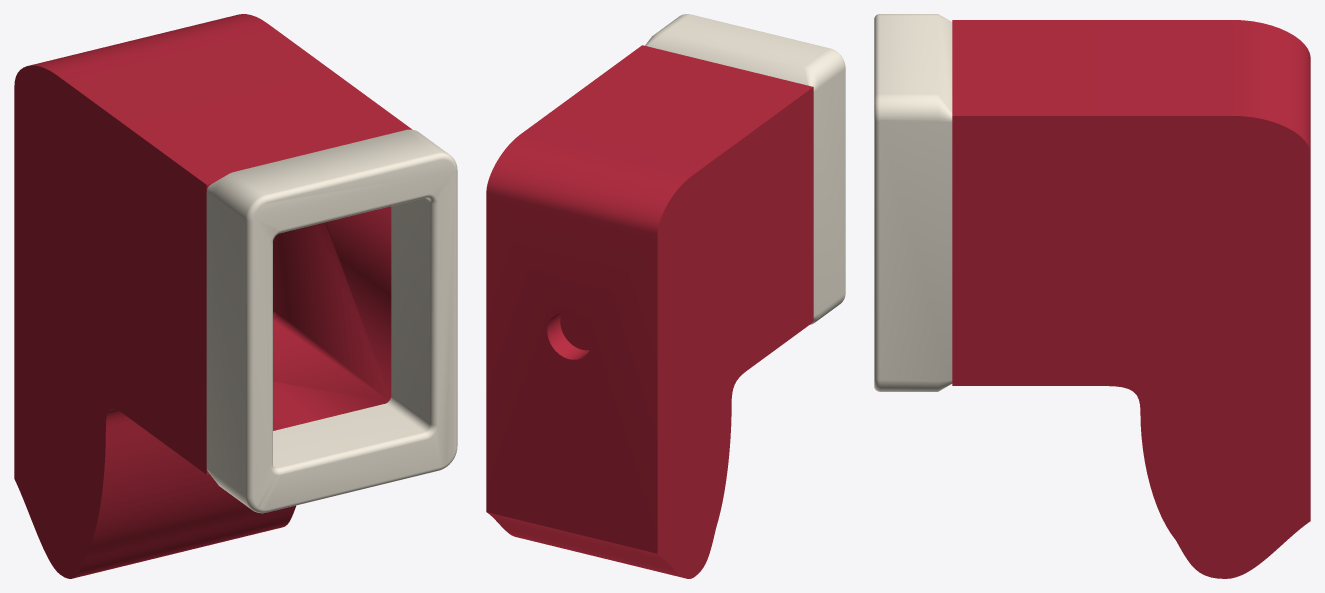
3 renders of one model, left to right at view 1: azimuth 30°, elevation 25°; view 2: azimuth 150°, elevation 25°; view 3: azimuth 270°, elevation 25°, orthographic. The views are drawn at different scales.
Parts seen in each view (by area): view 1: G06_ChristmasRed, G06_Snow; view 2: G06_ChristmasRed, G06_Snow; view 3: G06_ChristmasRed, G06_Snow.
Boxes of the visible parts, bbox=[...] form: G06_ChristmasRed: bbox=[14, 14, 411, 578]; G06_Snow: bbox=[206, 129, 457, 513]; G06_ChristmasRed: bbox=[486, 45, 813, 578]; G06_Snow: bbox=[645, 14, 845, 324]; G06_ChristmasRed: bbox=[952, 20, 1310, 578]; G06_Snow: bbox=[874, 14, 952, 391].
Size of the model in its own units: 32 by 74 by 61.5.
